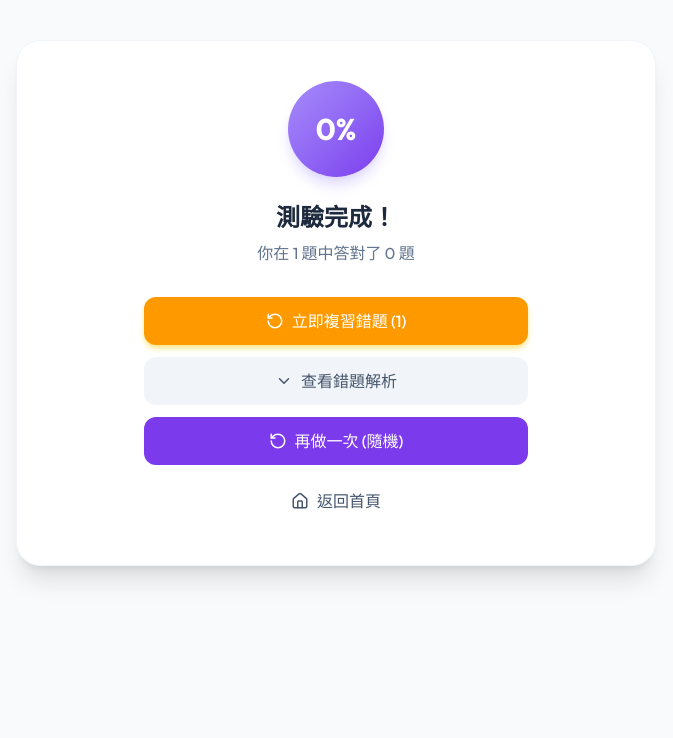
Wrong Answer Comparison & Accessibility (QuizResult) › 優雅降級：當 userAnswerMap 缺失或未傳時，安全回退為僅顯示正確答案，不拋出異常
Click the button "查看錯題解析": [336, 381] box [144,357,528,405]
(page scrolled)
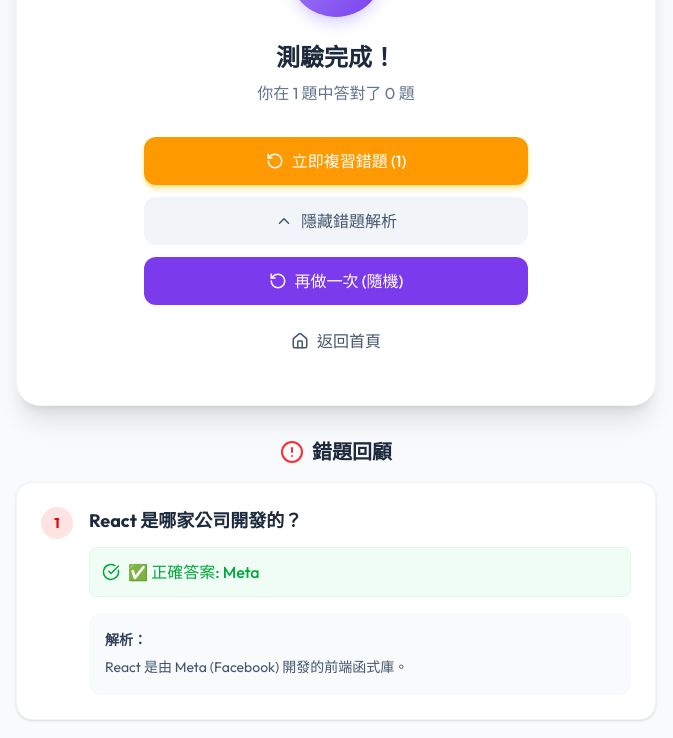
Expected: the text "✅ 正確答案: Meta" is shown, [128,560,260,584]
